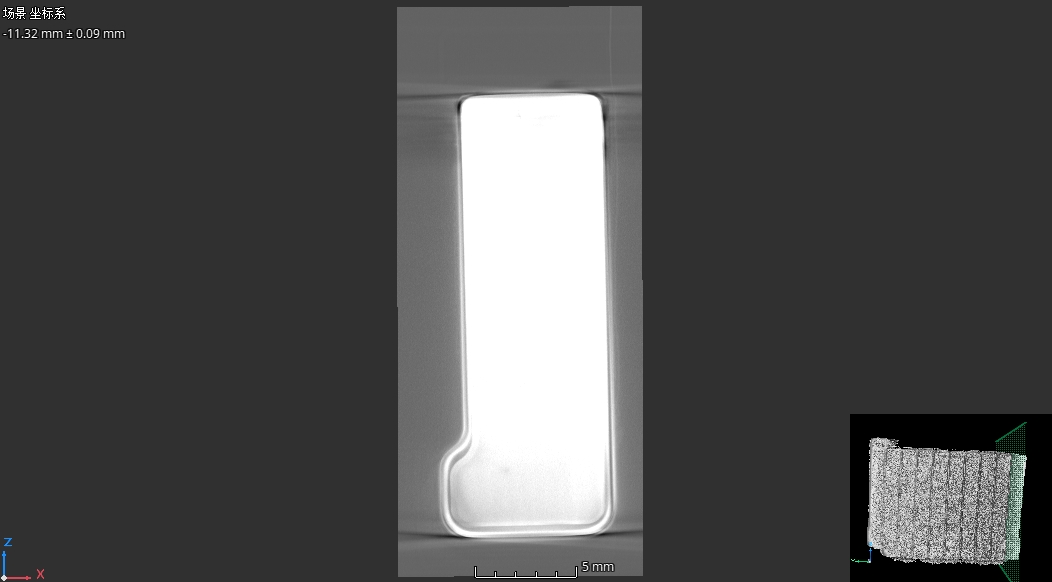dark: (501, 464, 513, 479)
